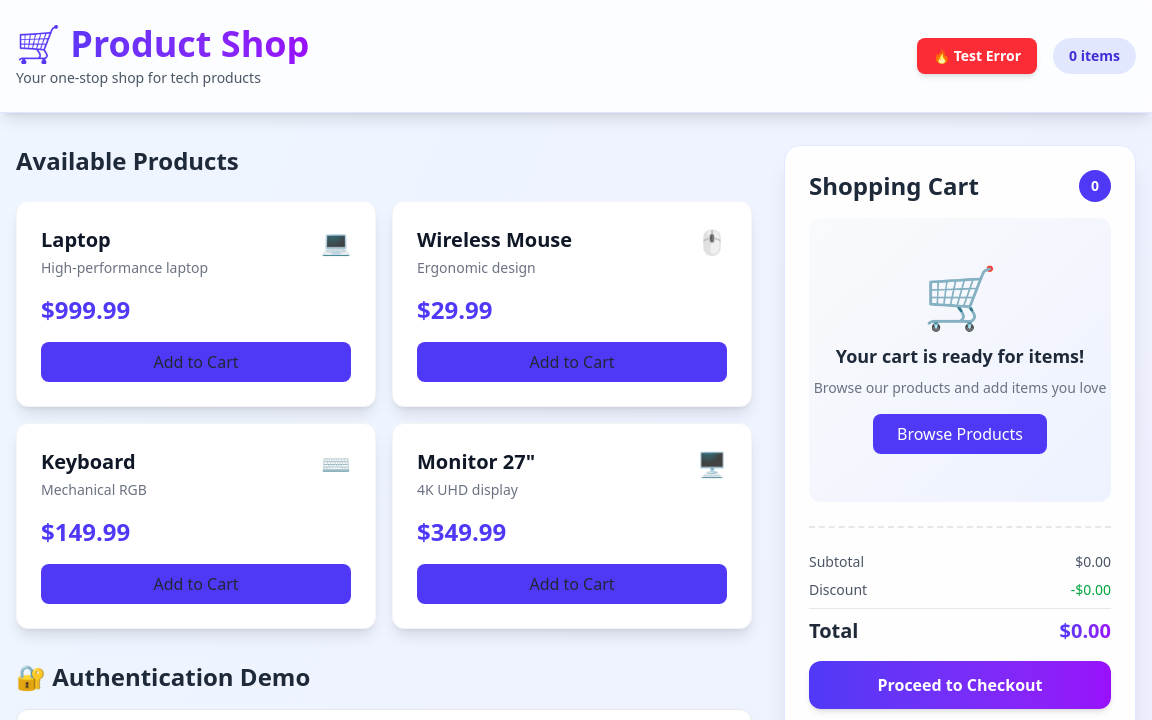
Scenario: App Integration › should add item to cart when add to cart button is clicked
Expected: the heading "Laptop" is shown, 41,226 -> 111,253
Expected: the text "0 items" is shown, 1053,38 -> 1136,74
Click first add to cart button (Laptop)
Step 1. Click the button "Add to Cart" below "$999.99" → (196, 362), box 41,342 -> 351,382
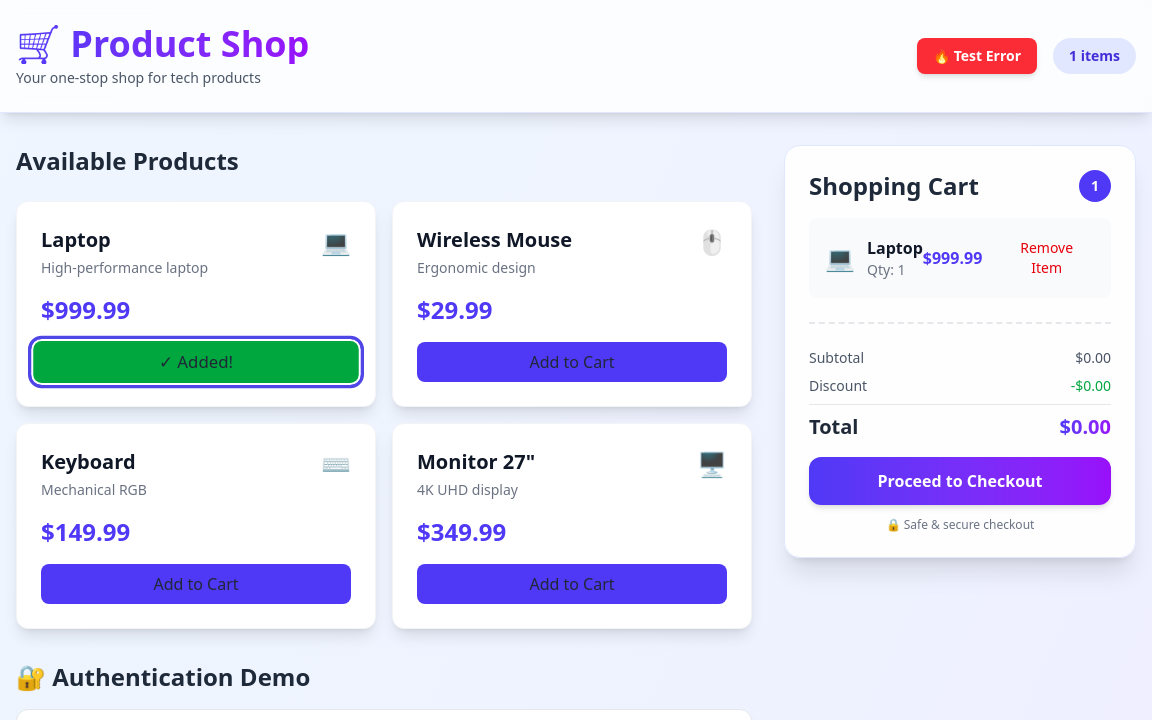
Result: the text "1 items" is shown at 1053,38 -> 1136,74
